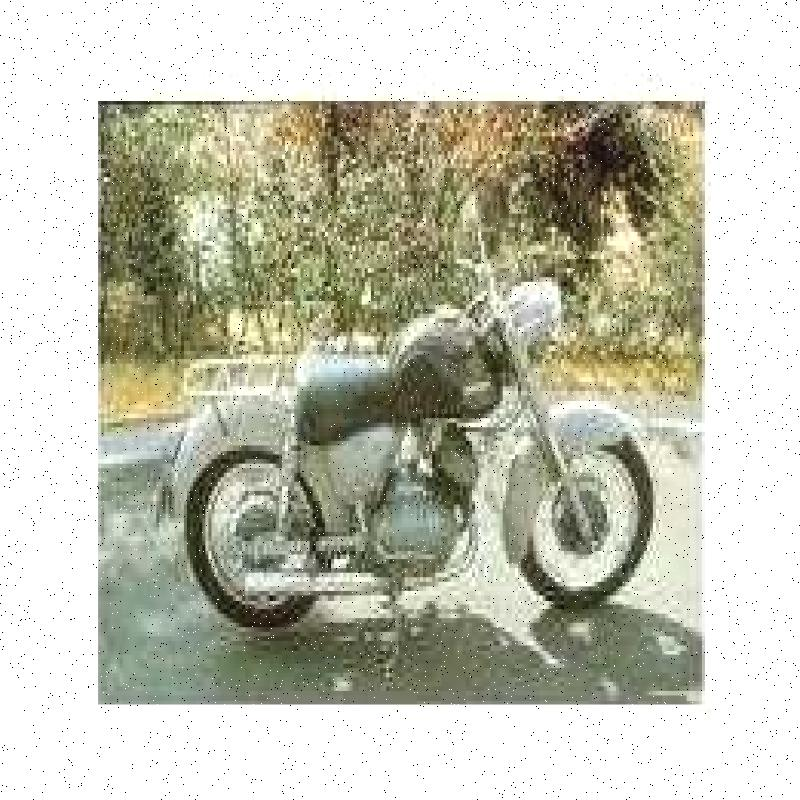bike: (156, 164, 694, 646)
